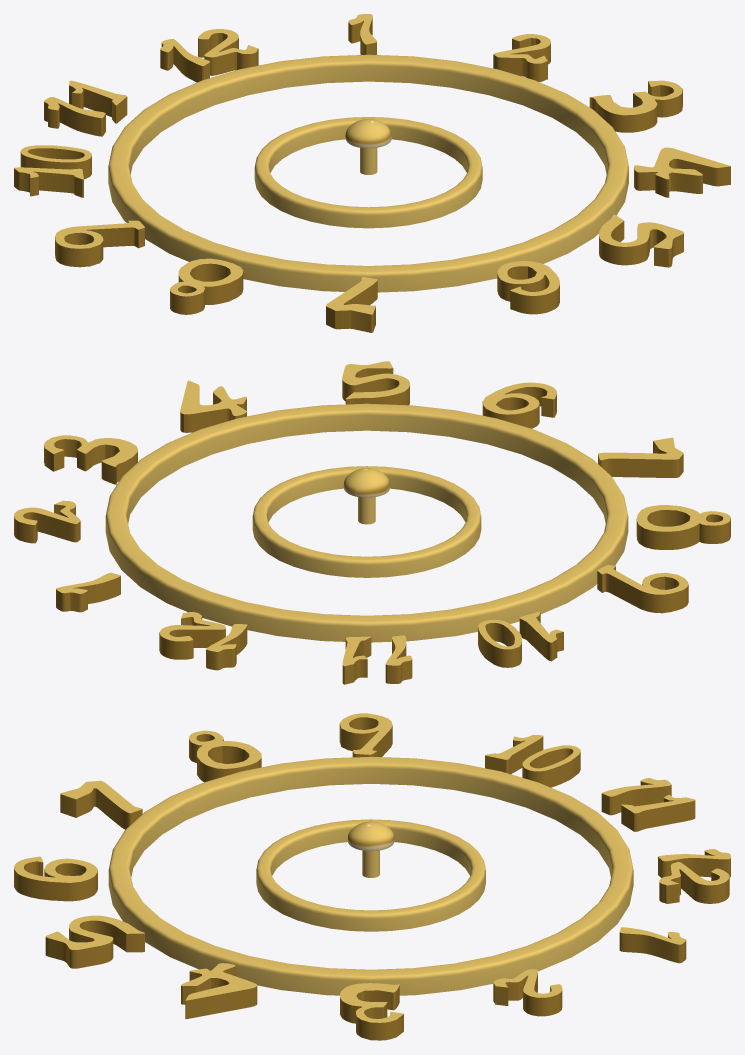
File: mod_oldClockMetal_000.FBX
The picture shows the model from 3 angles, top to bottom: view 1: azimuth 30°, elevation 25°; view 2: azimuth 150°, elevation 25°; view 3: azimuth 270°, elevation 25°; orthographic projection.
Parts seen in each view (by area): view 1: Clock_1; view 2: Clock_1; view 3: Clock_1.
Part boxes in pixels (x1,y1,x2,y2): Clock_1: [14, 14, 730, 332]; Clock_1: [14, 361, 730, 684]; Clock_1: [14, 713, 730, 1040].
Bounding box in the file's own units: 12173 × 1146 × 11931.
